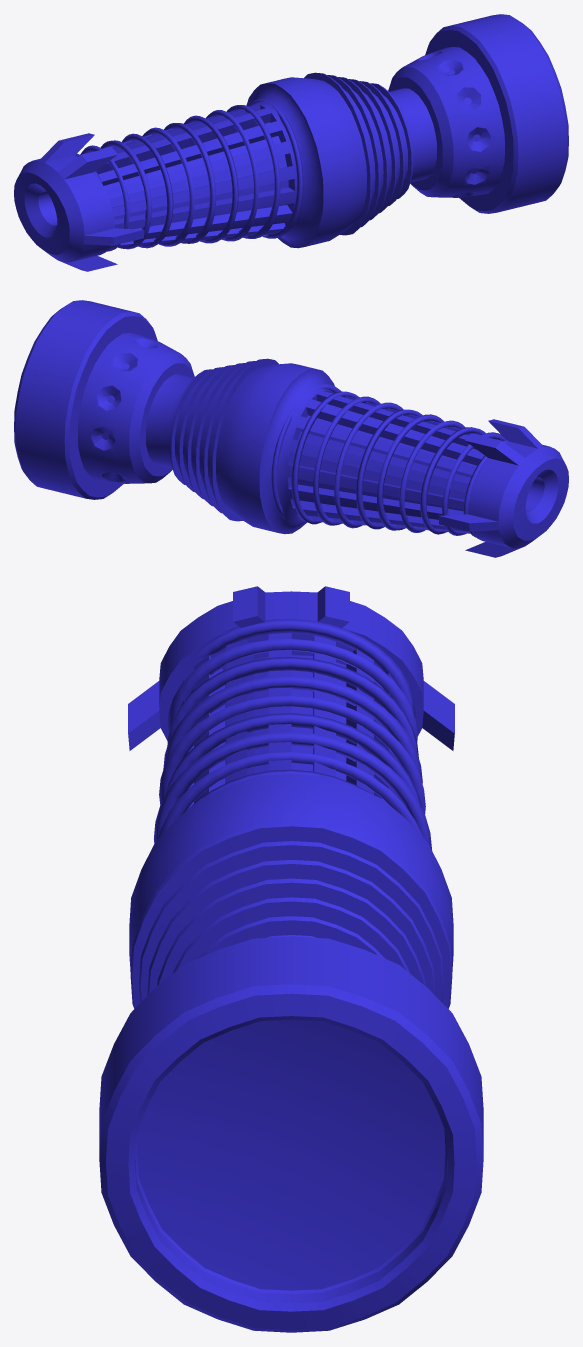
The model's file is WaterHand.fbx.
3 renders of one model, top to bottom at view 1: azimuth 30°, elevation 25°; view 2: azimuth 150°, elevation 25°; view 3: azimuth 270°, elevation 25°, orthographic. The views are drawn at different scales.
Visible parts, largest first — view 1: HandWater; view 2: HandWater; view 3: HandWater.
Part boxes in pixels (x1=…): HandWater: x1=14, y1=14, x2=568, y2=271; HandWater: x1=14, y1=300, x2=568, y2=557; HandWater: x1=99, y1=586, x2=483, y2=1332.
Bounding box in the file's own units: 31.6 × 10.88 × 10.88.
